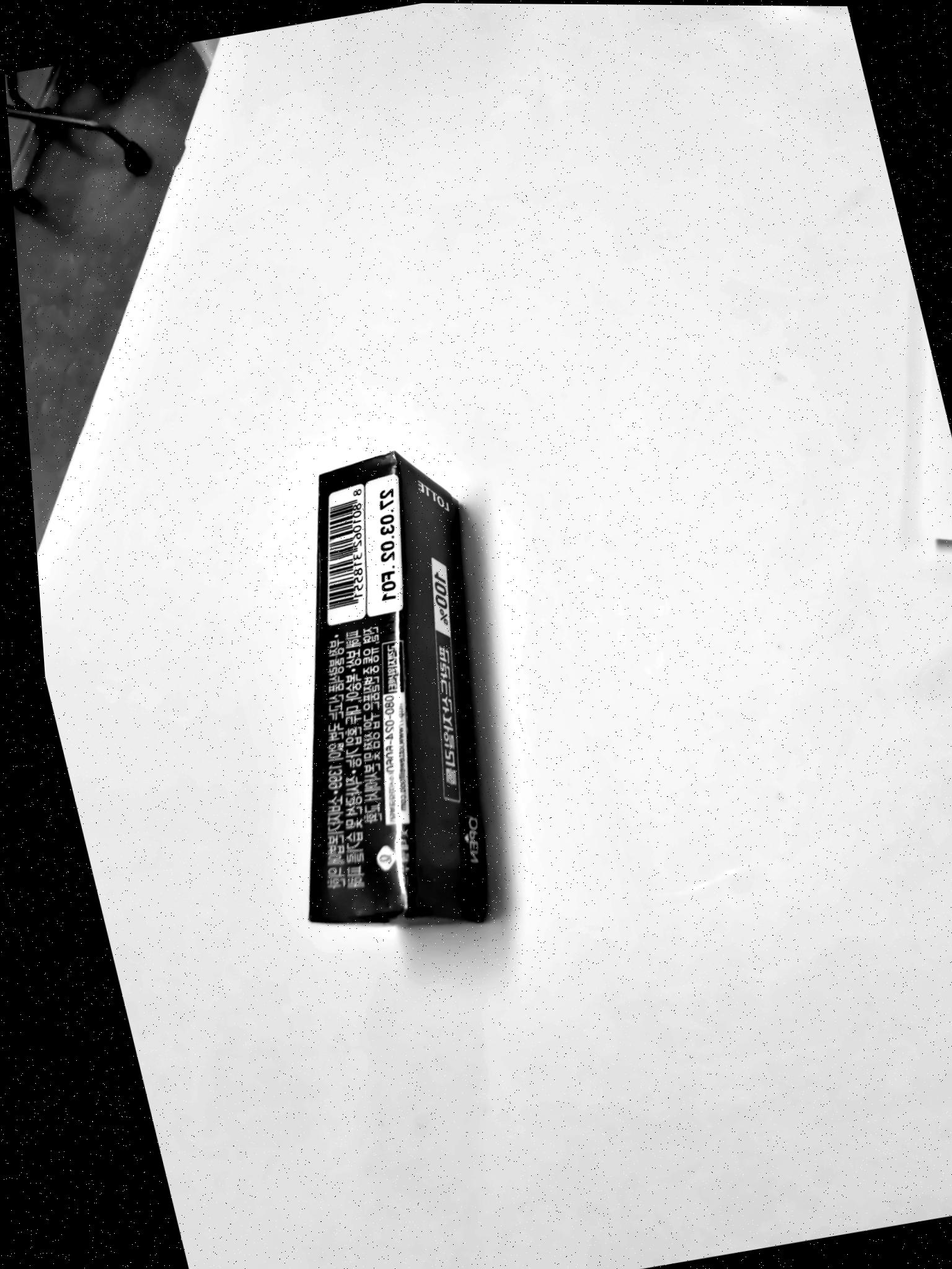gum_green: (310, 452, 486, 924)
